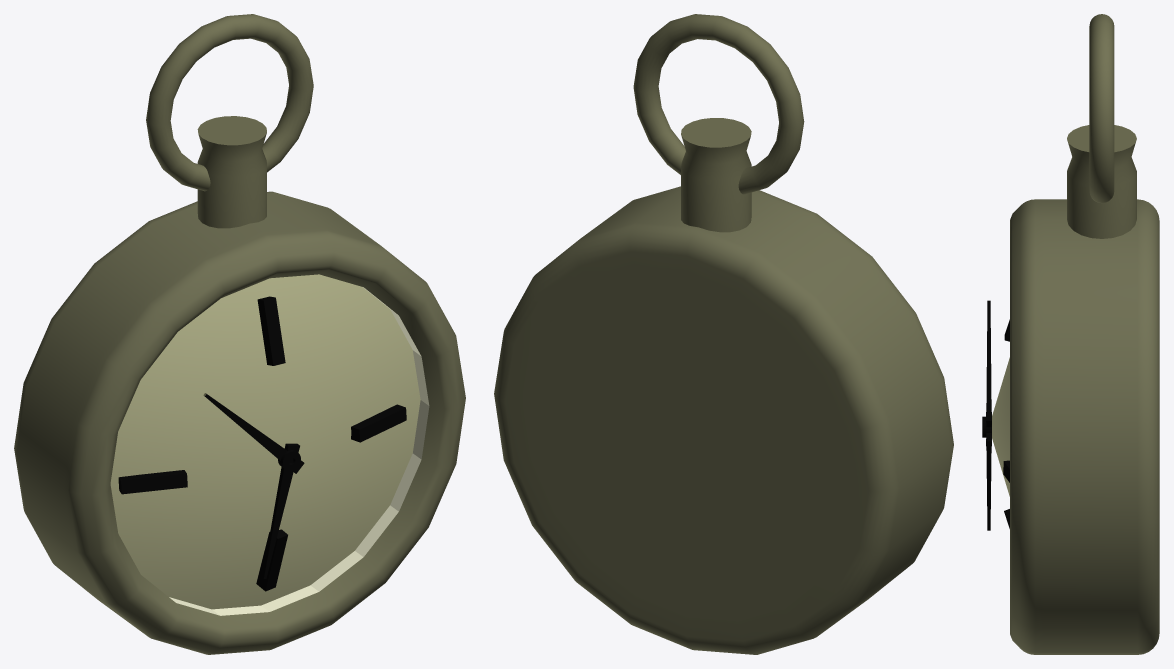
The model's file is Reloj.fbx.
The picture shows the model from 3 angles, left to right: view 1: azimuth 30°, elevation 25°; view 2: azimuth 150°, elevation 25°; view 3: azimuth 270°, elevation 25°; orthographic projection.
Visible parts, largest first — view 1: pCylinder4, pCube3, pCube6, pCube4, pCube5; view 2: pCylinder4; view 3: pCylinder4.
Boxes of the visible parts, x1,y1,x2,y2 form: pCylinder4: [14, 14, 465, 654]; pCube3: [257, 296, 285, 365]; pCube6: [118, 470, 187, 494]; pCube4: [351, 404, 406, 442]; pCube5: [256, 529, 287, 591]; pCylinder4: [494, 14, 953, 654]; pCylinder4: [982, 14, 1159, 654].
Bounding box in the file's own units: 13.09 × 19.24 × 5.05.
